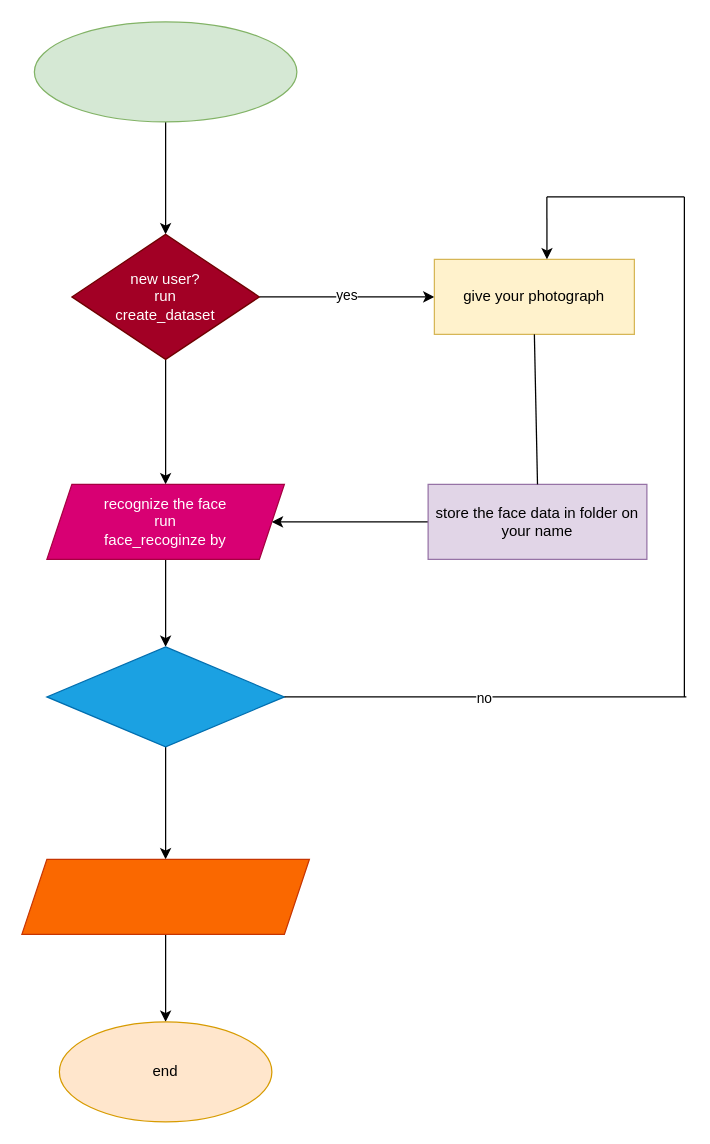
The diagram is 710 pixels wide and 1144 high, and some of its shapes have lost their labels. The shapes that lost their labels are listed below. From the top down, each one's centre as x and y in pixels, then its label:
At (165,71): "start".
At (165,696): "face recognized".
At (165,896): "stored in csv file with recoginzation number&date time of entry".
